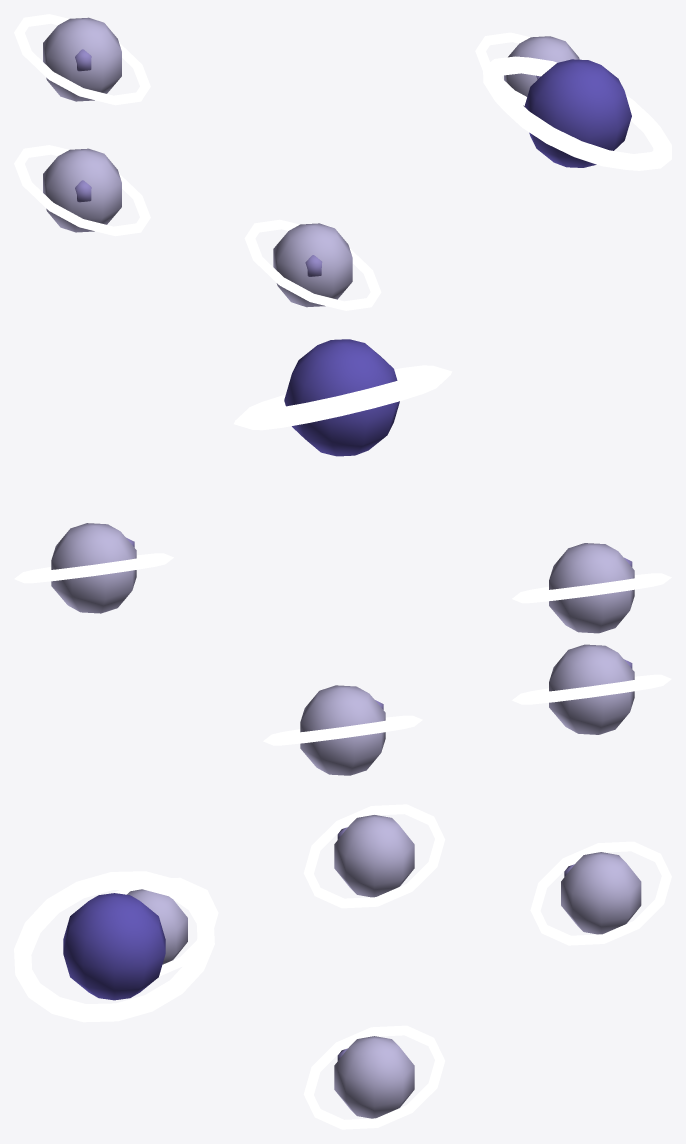
The model's file is luna_p1.glb.
3 renders of one model, top to bottom at view 1: azimuth 30°, elevation 25°; view 2: azimuth 150°, elevation 25°; view 3: azimuth 270°, elevation 25°, orthographic. The views are drawn at different scales.
Visible parts, largest first — view 1: p1_horizon_body, p1_horizon_glow, p1_orbs_body, p1_orbs_glow; view 2: p1_horizon_body, p1_horizon_glow, p1_orbs_body, p1_orbs_glow; view 3: p1_horizon_body, p1_horizon_glow, p1_orbs_body, p1_orbs_glow.
Boxes of the visible parts, <box> form: p1_horizon_body: <box>43,17,631,307</box>; p1_horizon_glow: <box>14,14,671,310</box>; p1_orbs_body: <box>43,148,121,232</box>; p1_orbs_glow: <box>14,145,150,236</box>; p1_horizon_body: <box>51,339,634,775</box>; p1_horizon_glow: <box>14,365,671,745</box>; p1_orbs_body: <box>549,644,634,734</box>; p1_orbs_glow: <box>512,674,671,704</box>; p1_horizon_body: <box>63,852,641,1118</box>; p1_horizon_glow: <box>14,841,671,1129</box>; p1_orbs_body: <box>334,815,414,897</box>; p1_orbs_glow: <box>303,804,445,908</box>.
Bounding box in the file's own units: 0.8617 × 0.271 × 0.8546.
